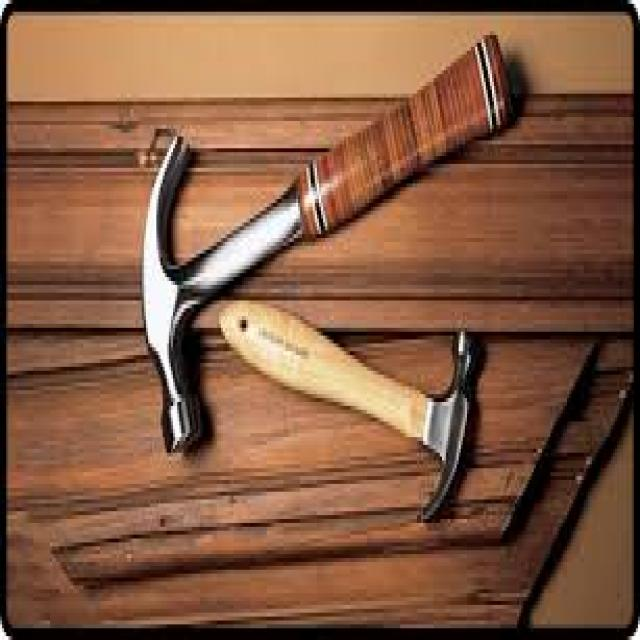hammer: (221, 275, 492, 537), (87, 66, 246, 475)
